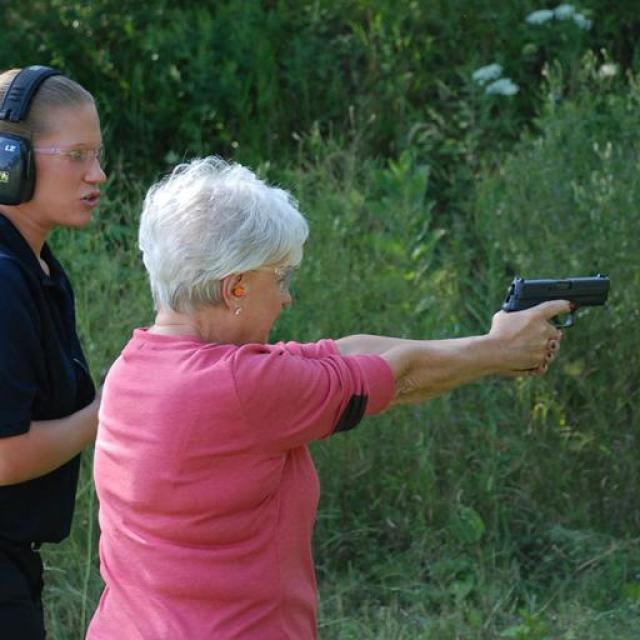pistol: (503, 271, 609, 327)
